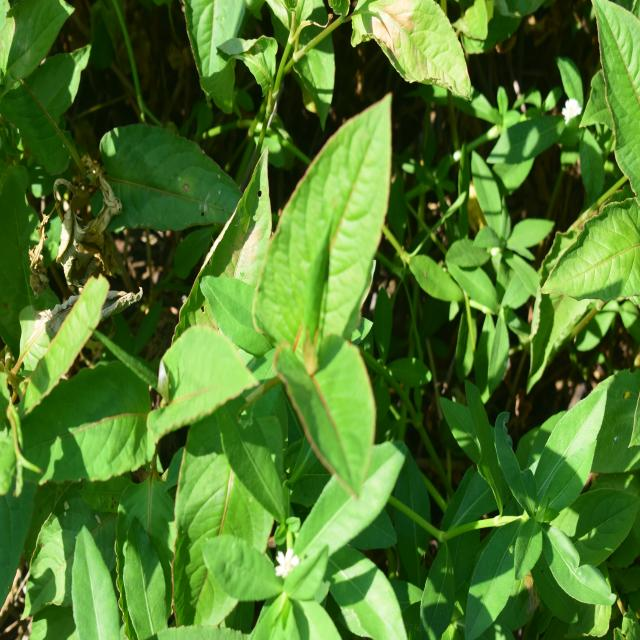Chinese_knotweed: (219, 92, 408, 478), (34, 336, 281, 579)
